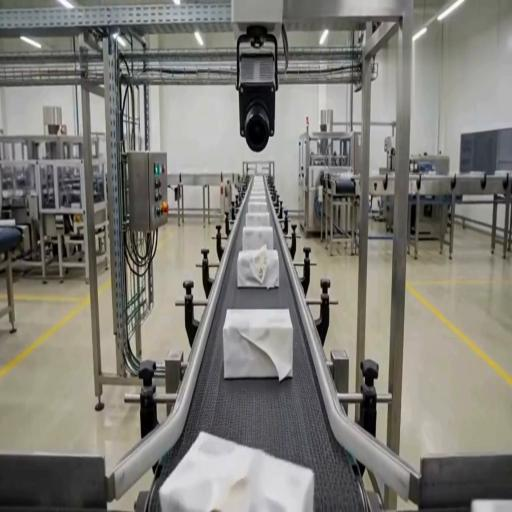defective: (160, 428, 312, 512), (223, 308, 293, 381), (236, 248, 280, 290)
good: (242, 225, 274, 252), (470, 498, 511, 512), (244, 211, 271, 227), (248, 182, 269, 198), (246, 200, 270, 213), (248, 174, 268, 186), (494, 170, 512, 178), (0, 218, 15, 227)
